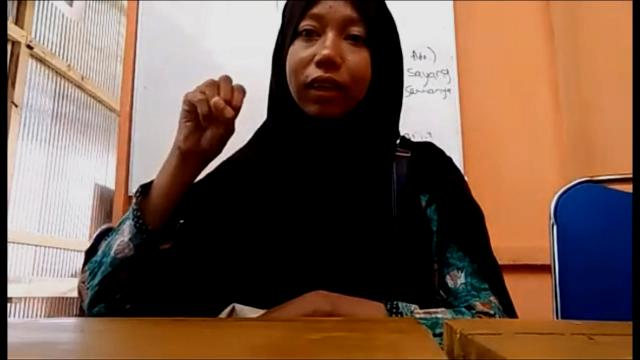E: (174, 72, 248, 162)
